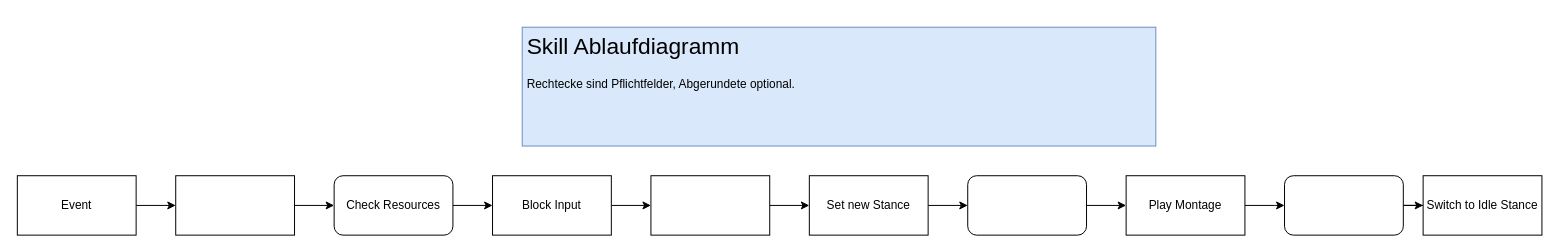
The diagram is 1559 pixels wide and 252 high, and some of its shapes have lost their labels. The shapes that lost their labels are listed below. From the top down, each one's centre as x and y in pixels, then its label:
At [235,205]: "Switch on Stance".
At [710,205]: "Reset Combo".
At [1027,205]: "Update Ressources".
At [1343,205]: "Set Cooldown".
